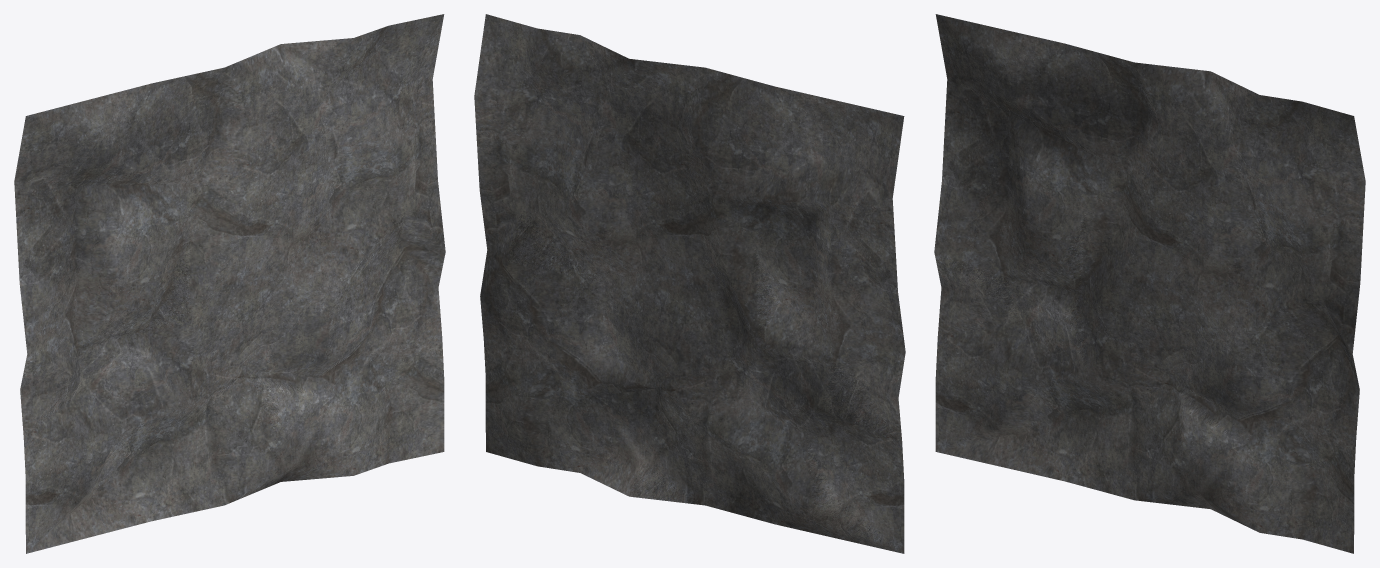
The picture shows the model from 3 angles, left to right: view 1: azimuth 30°, elevation 25°; view 2: azimuth 150°, elevation 25°; view 3: azimuth 330°, elevation 25°; orthographic projection.
Visible parts, largest first — view 1: Rock; view 2: Rock; view 3: Rock.
Boxes of the visible parts, <box> form: Rock: <box>14,14,445,553</box>; Rock: <box>474,14,905,553</box>; Rock: <box>934,14,1365,553</box>.
Bounding box in the file's own units: 250 × 250 × 18.62.
1 material, 1 textured.
